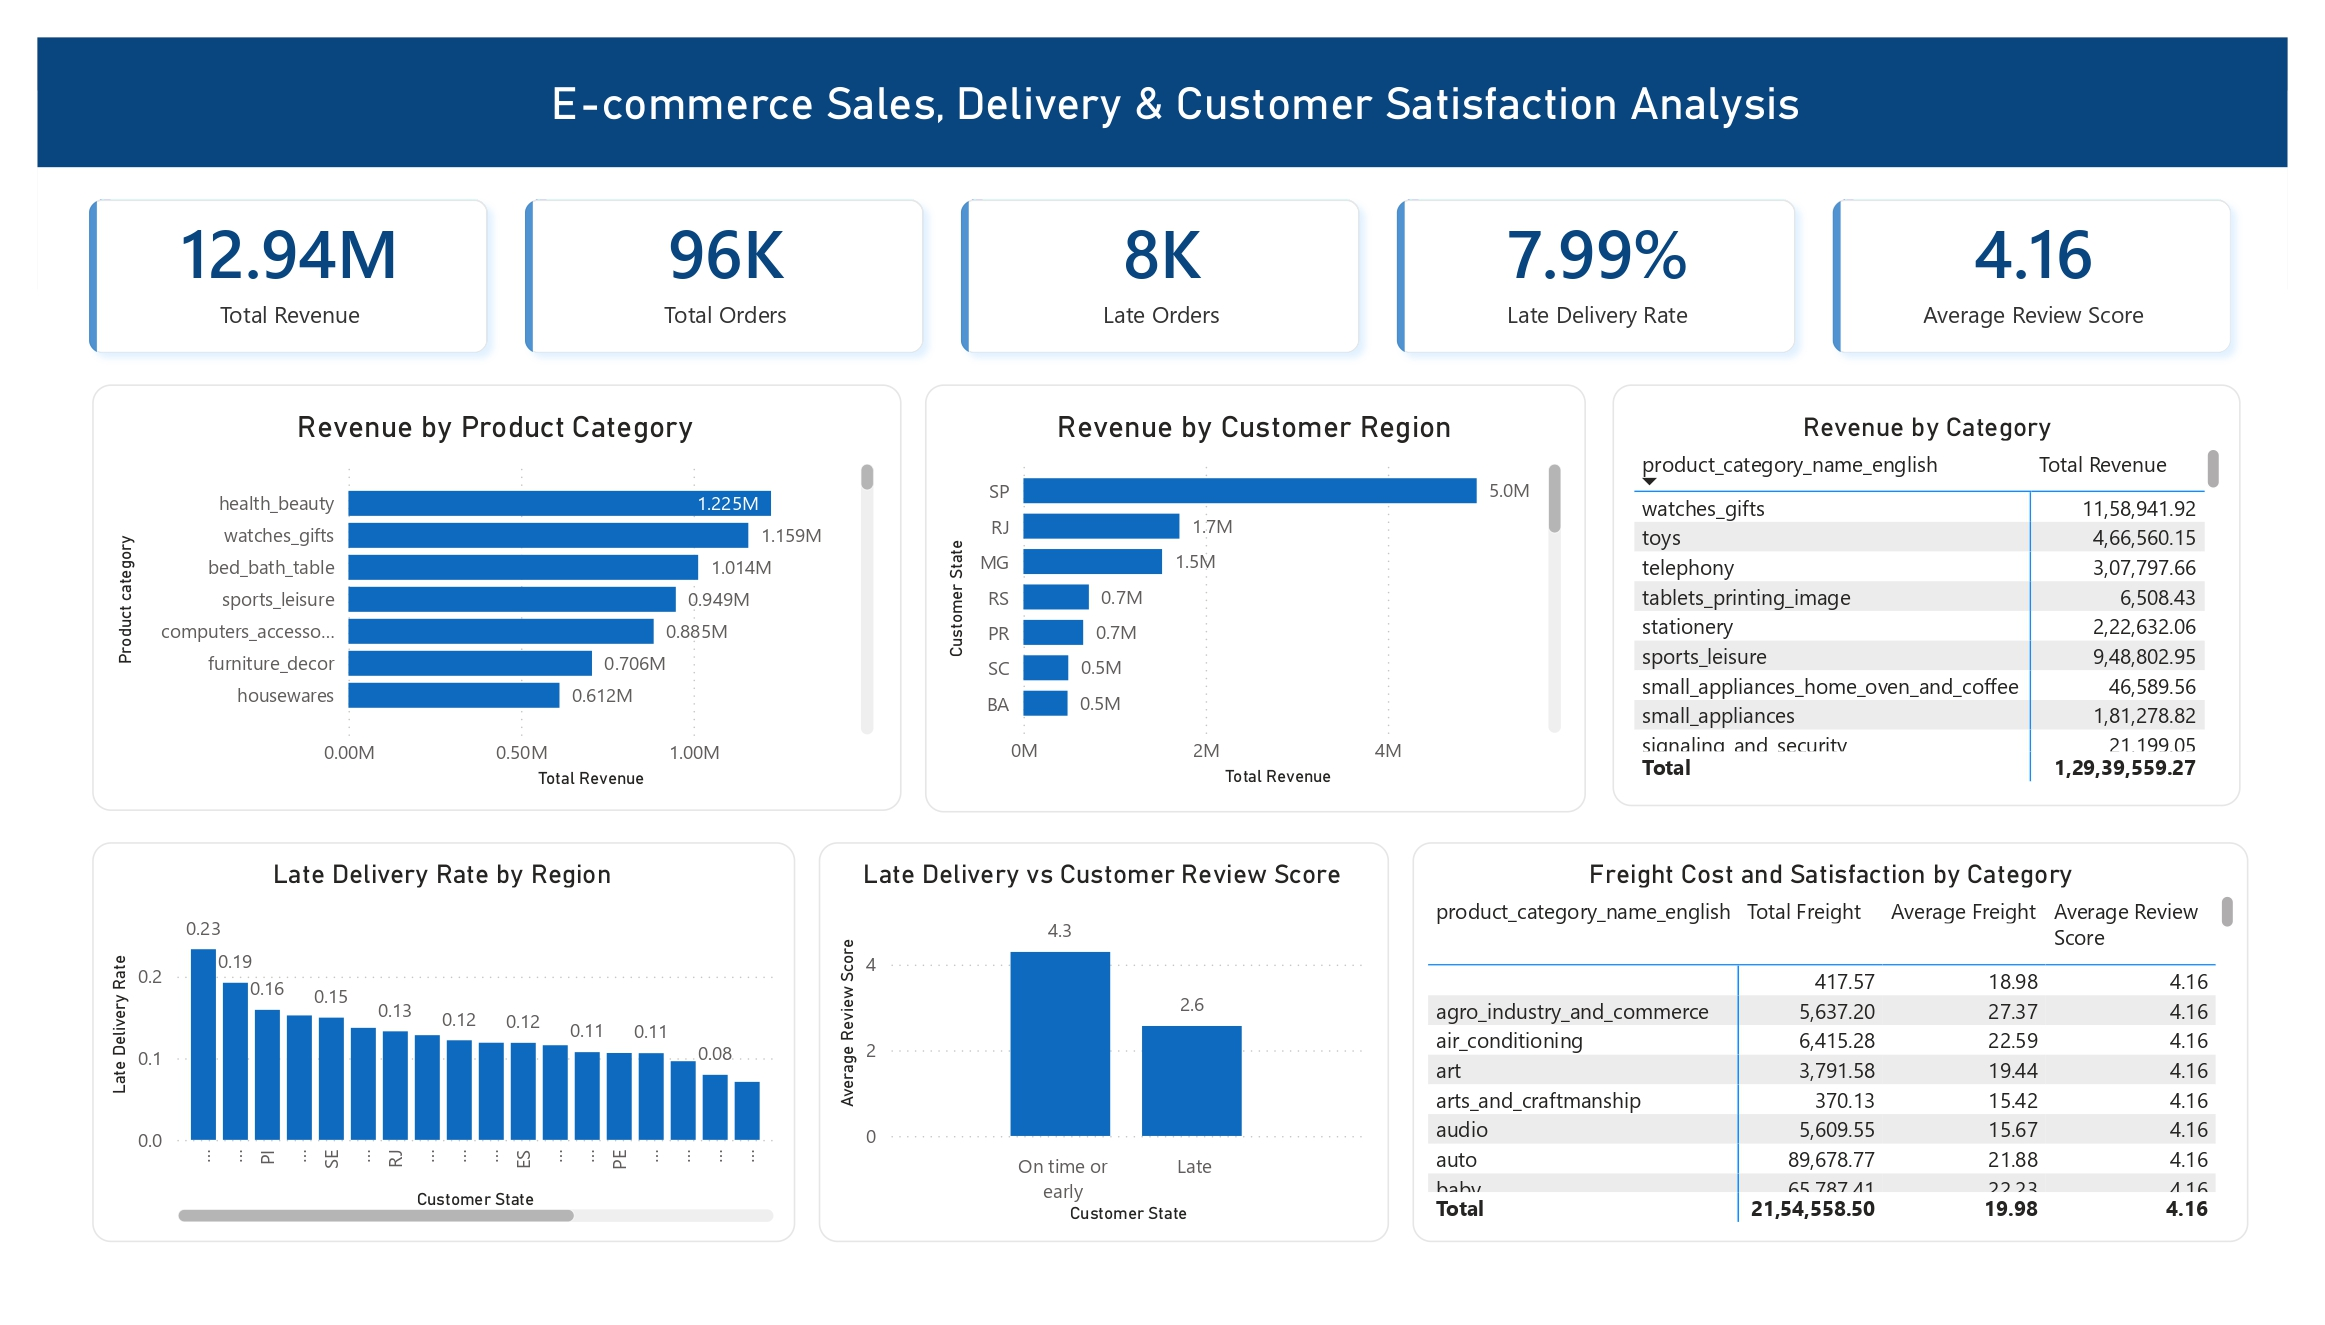

The page's visual inventory and layout, read from the dashboard file:
{"tool":"powerbi","page":{"name":"Page 1","canvas":[1440,800],"ordinal":0},"visuals":[{"type":"shape","box":[34.8,515,450,256.2],"z":0},{"type":"shape","box":[567.5,222.3,423.8,273.8],"z":1000},{"type":"shape","box":[35,222.3,517.5,272.5],"z":2000},{"type":"shape","box":[1007.5,222.3,402.5,270],"z":3000},{"type":"shape","box":[0,0,1440,83.3],"z":4000},{"type":"clusteredBarChart","title":"Revenue by Product Category","fields":{"Category":["sales_analysis.product_category_name_english"],"Y":["orders_analysis.Total Revenue"]},"box":[42.5,229.8,500,257.5],"z":5000},{"type":"cardVisual","title":"bnvbnvbn","fields":{"Data":["orders_analysis.Total Revenue","orders_analysis.Total Orders","orders_analysis.Late Orders","orders_analysis.Late Delivery Rate","orders_analysis.Average Review Score"]},"box":[0,82.5,1440,140],"z":6000},{"type":"textbox","box":[17.5,15,1406.2,52.5],"z":7000},{"type":"clusteredBarChart","title":"Revenue by Customer Region","fields":{"Category":["sales_analysis.customer_state"],"Y":["orders_analysis.Total Revenue"]},"box":[575,229.8,407.5,256.2],"z":8000},{"type":"pivotTable","title":"Revenue by Category","fields":{"Values":["orders_analysis.Total Revenue"],"Rows":["sales_analysis.product_category_name_english"]},"box":[1013.8,231,391.2,252.5],"z":9000},{"type":"clusteredColumnChart","title":"Late Delivery Rate by Region","fields":{"Category":["orders_analysis.customer_state"],"Y":["orders_analysis.Late Delivery Rate"]},"box":[42.3,525,433.8,237.5],"z":10000},{"type":"shape","box":[500,515,365,256.2],"z":11000},{"type":"clusteredColumnChart","title":"Late Delivery vs Customer Review Score","fields":{"Category":["orders_analysis (2).delivery_status"],"Y":["orders_analysis.Average Review Score"]},"box":[507.5,525,347.5,237.5],"z":12000},{"type":"shape","box":[880,515,535,256.2],"z":13000},{"type":"pivotTable","title":"Freight Cost and Satisfaction by Category","fields":{"Rows":["sales_analysis.product_category_name_english"],"Values":["orders_analysis.Total Freight","orders_analysis.Average Freight","orders_analysis.Average Review Score"]},"box":[885,525,526.2,237.5],"z":14000}]}

Visuals, with their boxes on the page's 1440x800 design canvas (x1, y1, x2, y2). These are canvas units, not pixel positions in the 2325x1325 screenshot, which may show the page scaled, cropped or inside an application window:
shape: <region>35, 515, 485, 771</region>
shape: <region>568, 222, 991, 496</region>
shape: <region>35, 222, 552, 495</region>
shape: <region>1008, 222, 1410, 492</region>
shape: <region>0, 0, 1440, 83</region>
"Revenue by Product Category" clusteredBarChart: <region>42, 230, 542, 487</region>
"bnvbnvbn" cardVisual: <region>0, 82, 1440, 222</region>
textbox: <region>18, 15, 1424, 68</region>
"Revenue by Customer Region" clusteredBarChart: <region>575, 230, 982, 486</region>
"Revenue by Category" pivotTable: <region>1014, 231, 1405, 484</region>
"Late Delivery Rate by Region" clusteredColumnChart: <region>42, 525, 476, 762</region>
shape: <region>500, 515, 865, 771</region>
"Late Delivery vs Customer Review Score" clusteredColumnChart: <region>508, 525, 855, 762</region>
shape: <region>880, 515, 1415, 771</region>
"Freight Cost and Satisfaction by Category" pivotTable: <region>885, 525, 1411, 762</region>
